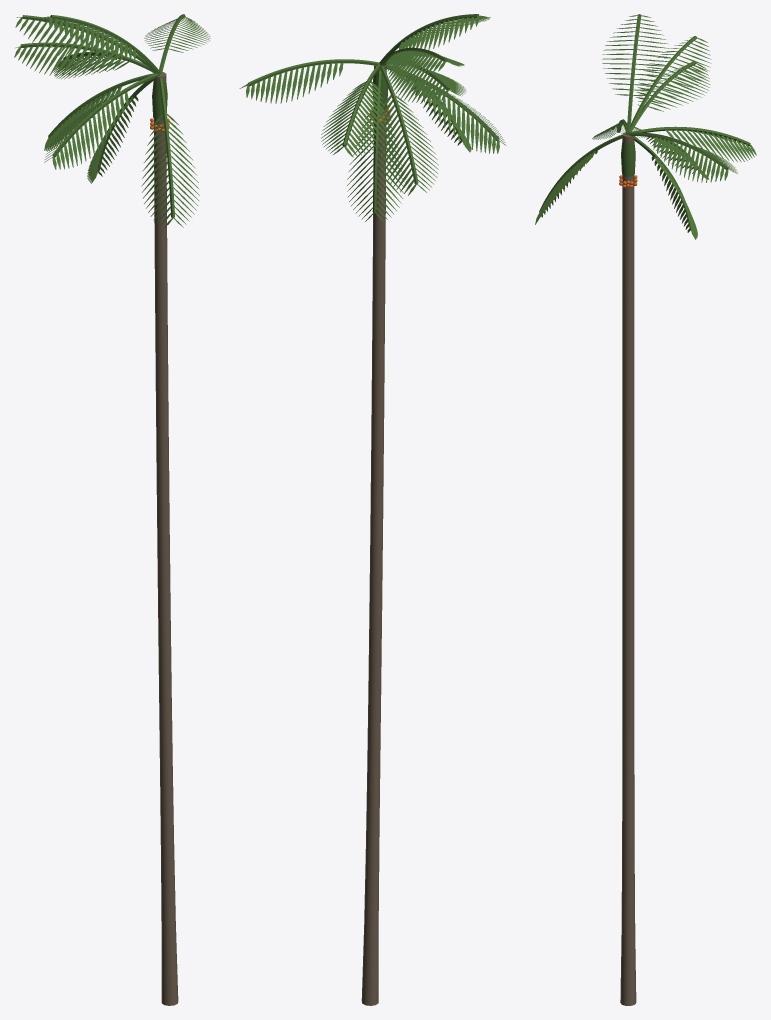
File: areca_palm.glb
3 renders of one model, left to right at view 1: azimuth 30°, elevation 25°; view 2: azimuth 150°, elevation 25°; view 3: azimuth 270°, elevation 25°, orthographic. The views are drawn at different scales.
Parts seen in each view (by area): view 1: areca_palm; view 2: areca_palm; view 3: areca_palm.
Boxes of the visible parts, x1,y1,x2,y2 form: areca_palm: [14, 14, 210, 1005]; areca_palm: [239, 14, 506, 1005]; areca_palm: [535, 14, 756, 1005].
Size of the model in its own units: 2.76 by 13.03 by 2.79.
